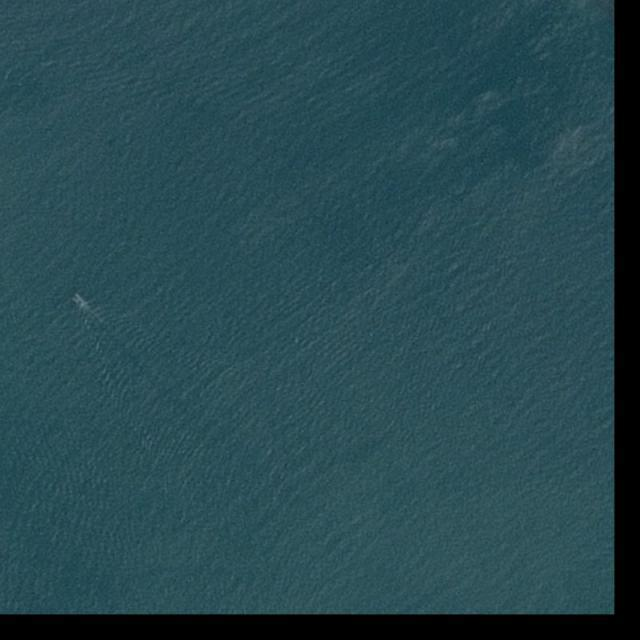ship: (74, 295, 82, 303)
